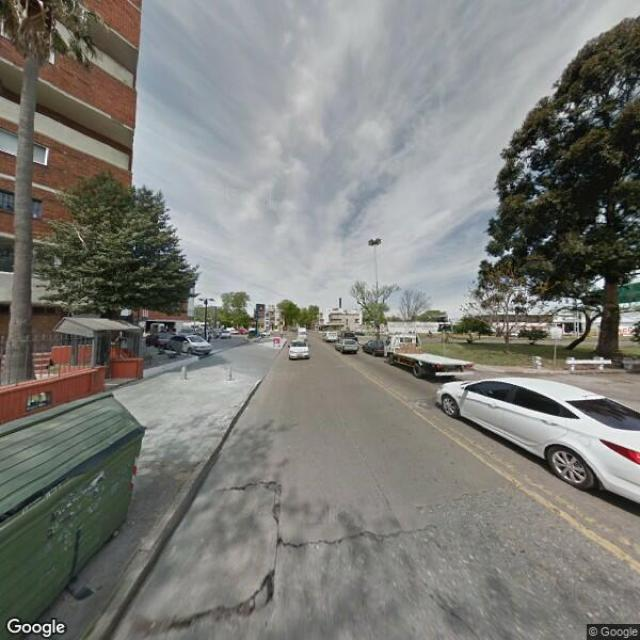garbage container: (1, 378, 160, 640)
